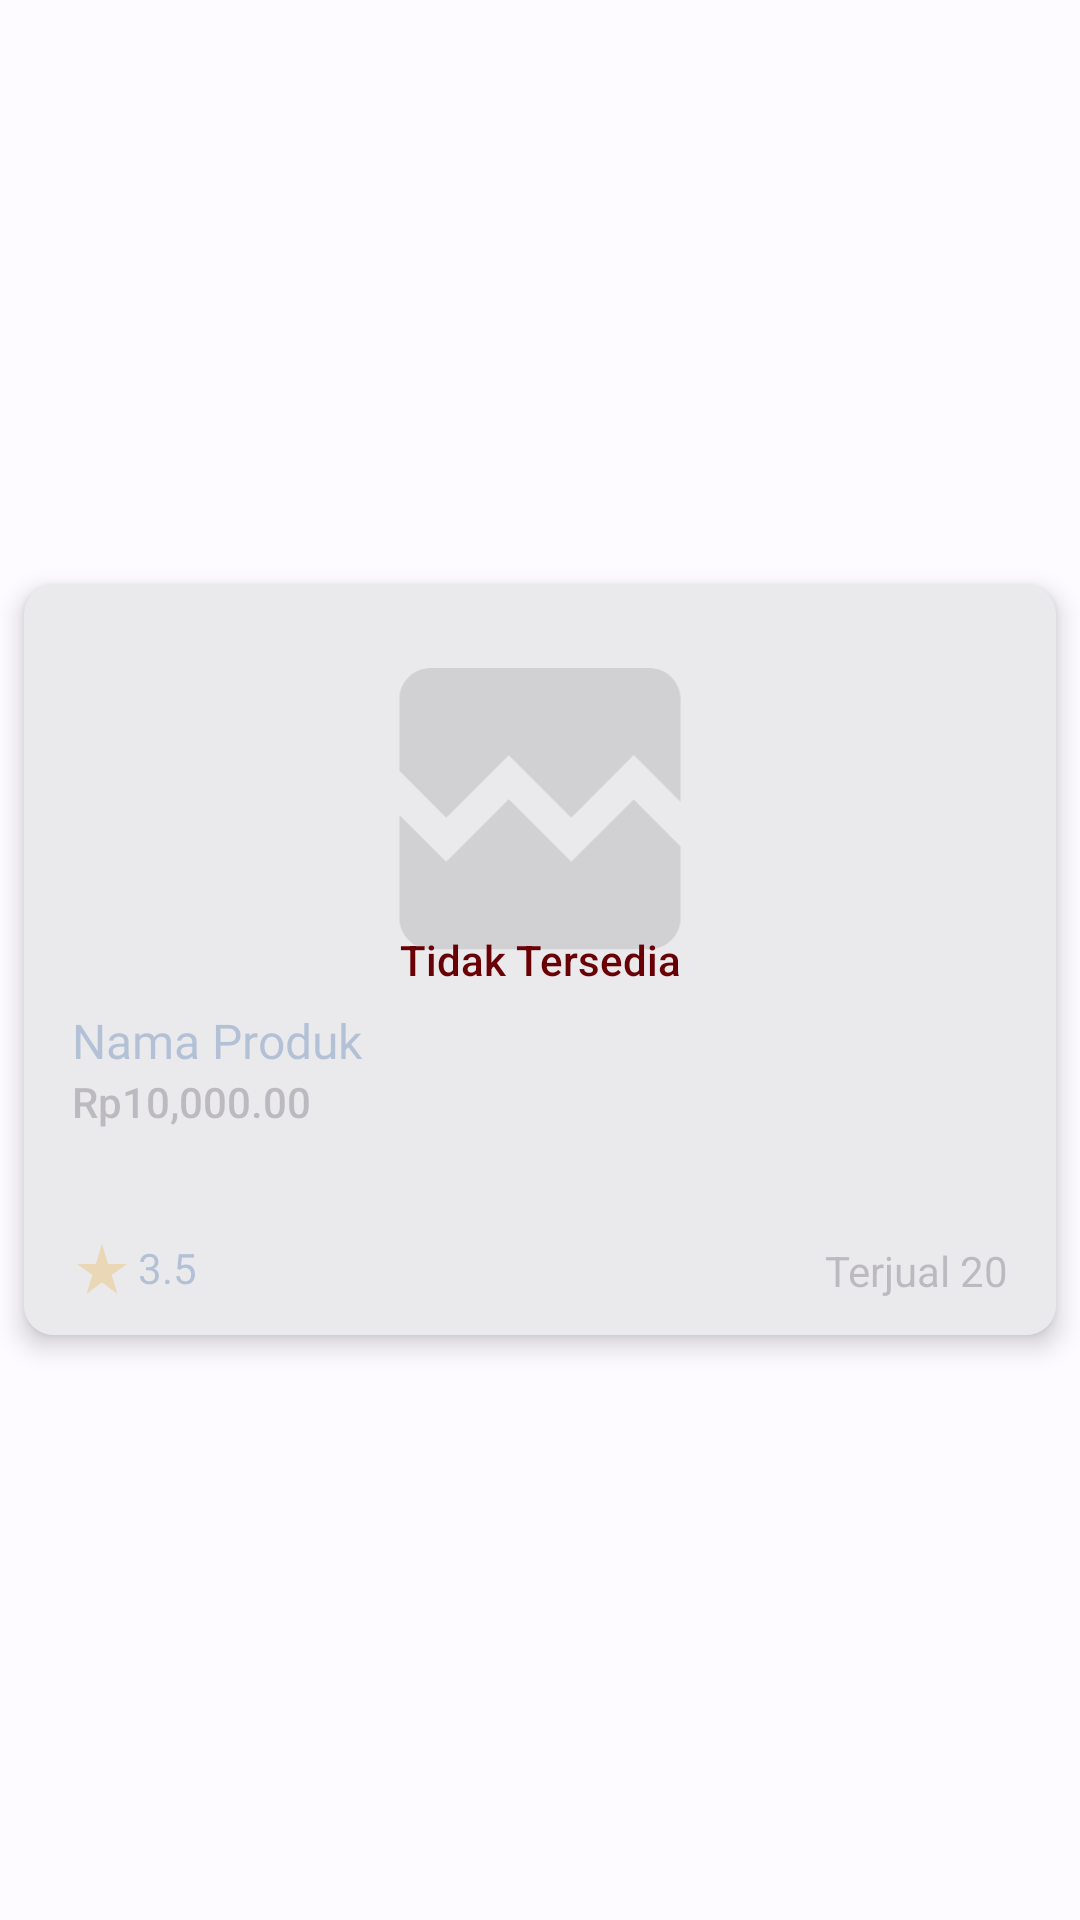

Screen size 1080×1920. Icon name, then its box in pixels as (x1, y1, x2, y2):
broken: (400, 668, 680, 977)
star rate: (78, 1245, 126, 1293)
